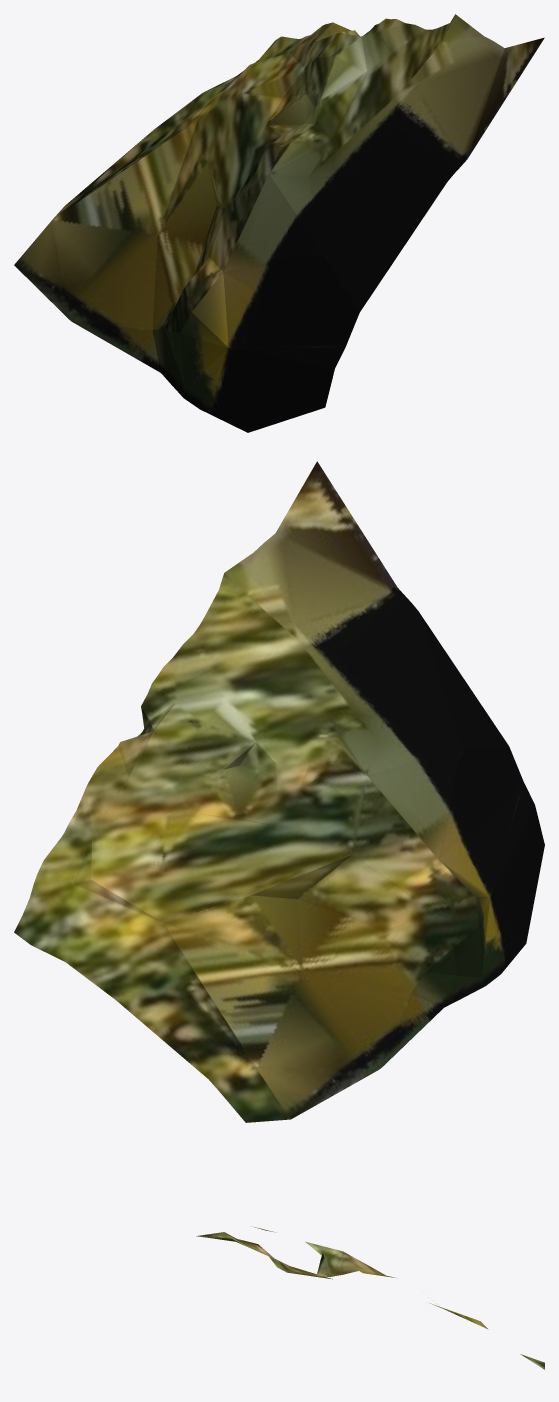
3 views of the same model, one above another, from view 1: azimuth 30°, elevation 25°; view 2: azimuth 150°, elevation 25°; view 3: azimuth 270°, elevation 25° (orthographic). The views are drawn at different scales.
Bounding box in the file's own units: 1.77 × 2.34 × 3.35.
Materials: 2 (2 with a texture image).
